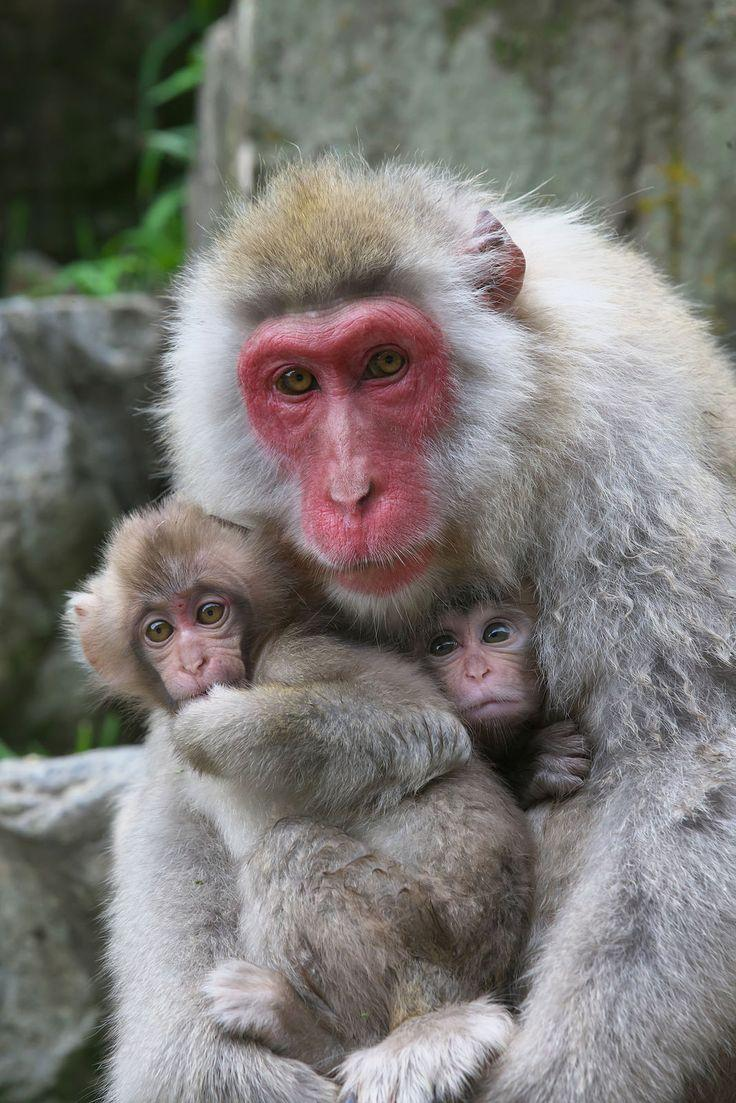monkey: (119, 160, 736, 1103)
